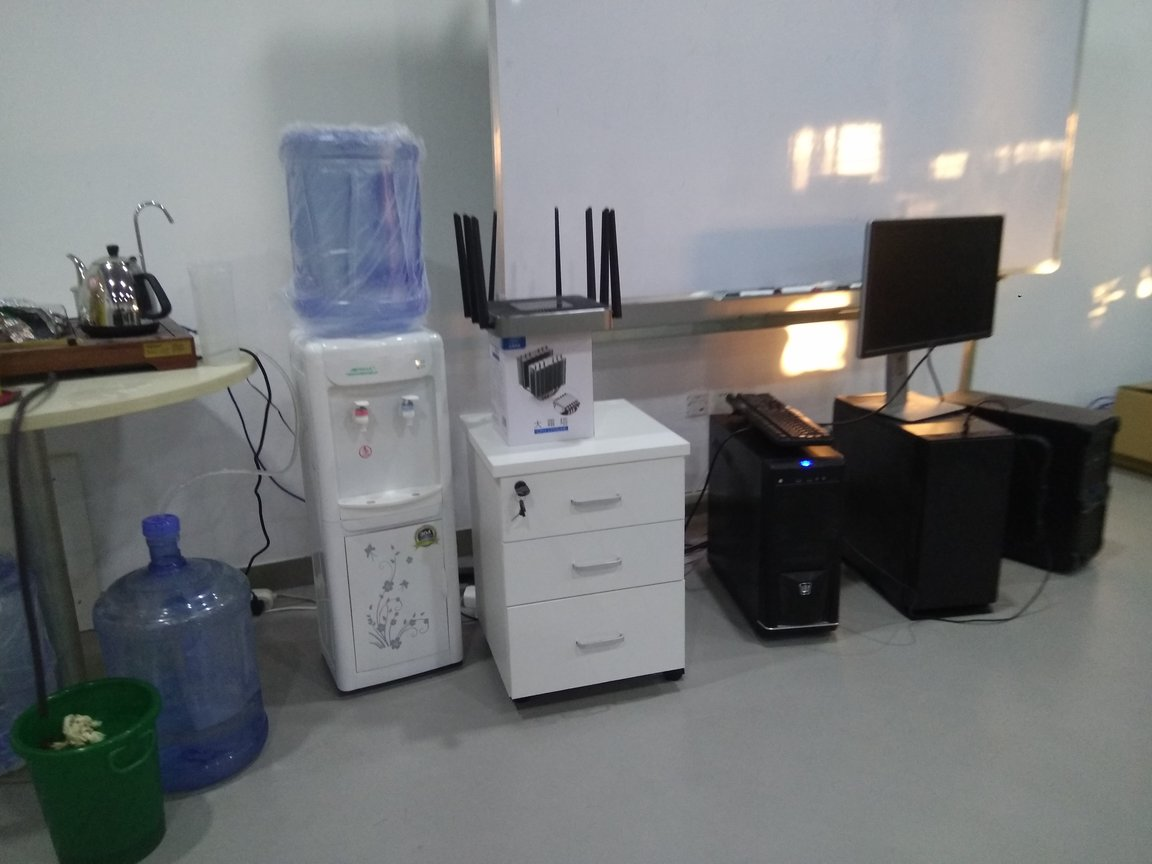computer: (837, 388, 1022, 641), (940, 390, 1124, 590), (701, 411, 851, 654)
drawer chest: (278, 322, 479, 689), (467, 401, 701, 706)
monitor: (852, 211, 1012, 436)
scuttlebutt: (101, 504, 285, 796), (275, 112, 439, 335)
